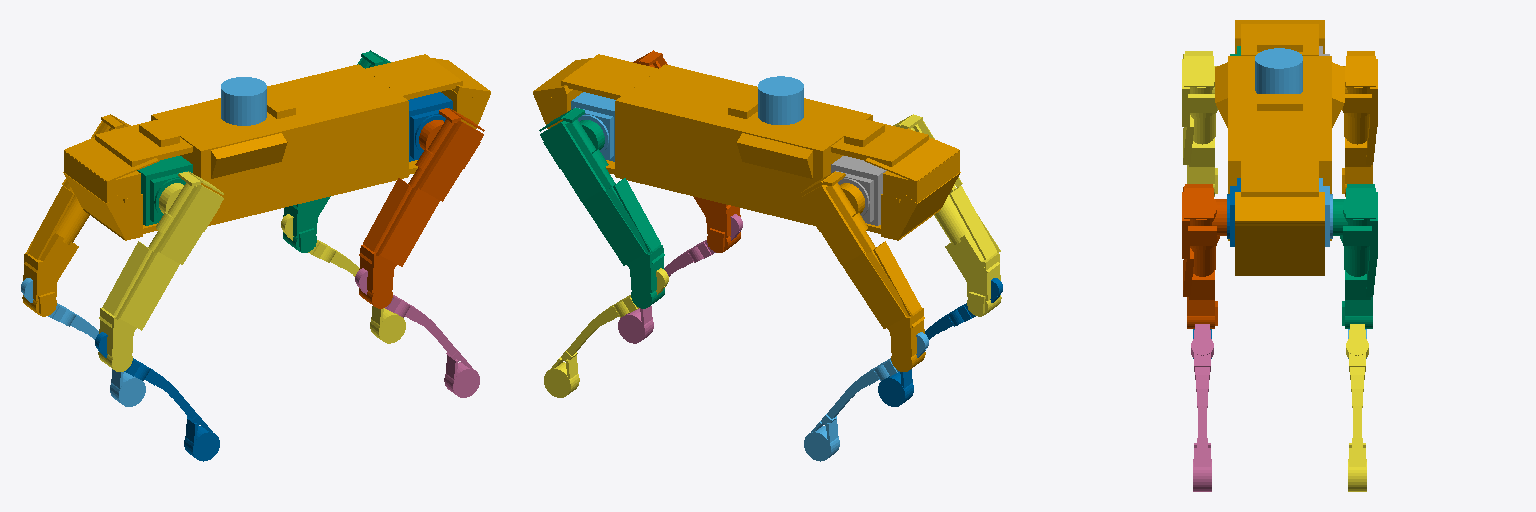
--- Facts derived from the render (not from the file) ---
3 views of the same robot in one strip: view 1: azimuth 30°, elevation 25°; view 2: azimuth 150°, elevation 25°; view 3: azimuth 270°, elevation 25° (orthographic).
Model Spot with 44 links and 43 joints (12 revolute, 4 continuous, 27 fixed), rooted at base_link, posed all joints at 0.
Links seen in each view (by area): view 1: base_link, rear right upperarm, front right upperarm, rear left upperarm, front right forearm, rear right forearm, Velodyne_Puck, front left forearm, rear left forearm, rear right shoulder, front left upperarm, front right shoulder; view 2: base_link, rear left upperarm, front left upperarm, rear right upperarm, front left forearm, rear left forearm, Velodyne_Puck, front right forearm, rear right forearm, rear left shoulder, front right upperarm, front left shoulder; view 3: base_link, front right upperarm, front left upperarm, rear right upperarm, rear left upperarm, front right forearm, front left forearm, Velodyne_Puck.
Link boxes in pixels (x1,y1,x2,y2): base_link: (63,54,490,240); rear right upperarm: (98,171,223,371); front right upperarm: (359,108,484,308); rear left upperarm: (22,114,130,316); front right forearm: (355,268,479,397); rear right forearm: (95,332,219,461); Velodyne_Puck: (221,77,266,125); front left forearm: (281,214,405,343); rear left forearm: (21,278,145,406); rear right shoulder: (137,156,192,225); front left upperarm: (283,50,390,252); front right shoulder: (408,92,452,161); base_link: (533,54,960,240); rear left upperarm: (800,171,925,371); front left upperarm: (539,108,664,308); rear right upperarm: (893,114,1001,316); front left forearm: (544,268,668,397); rear left forearm: (804,332,928,461); Velodyne_Puck: (758,76,803,124); front right forearm: (618,214,742,343); rear right forearm: (878,278,1002,406); rear left shoulder: (831,156,886,225); front right upperarm: (633,50,740,252); front left shoulder: (571,92,615,161); base_link: (1215,20,1344,275); front right upperarm: (1182,184,1226,328); front left upperarm: (1333,184,1377,328); rear right upperarm: (1182,51,1217,196); rear left upperarm: (1342,51,1377,196); front right forearm: (1191,324,1213,491); front left forearm: (1346,324,1368,491); Velodyne_Puck: (1255,48,1302,93).
Bounding box of the posed robot: 1.06 × 0.42 × 0.8025 m (x, y, z).
Geometry: primitives only (box / cylinder / sphere), no mesh files.

robot.urdf — Spot:
<?xml version="1.0"?>
<robot name="Spot" xmlns:xacro="http://ros.org/wiki/xacro">
  <link name="base_link">
    <visual>
      <origin xyz="0.462094 0 -0.000232" rpy="1.127615 -0.00001 -1.570793"/>
      <geometry>
        <box size="0.192453 0.177358 0.043396"/>
      </geometry>
    </visual>
    <collision>
      <origin xyz="0.462094 0 -0.000232" rpy="1.127615 -0.00001 -1.570793"/>
      <geometry>
        <box size="0.192453 0.177358 0.043396"/>
      </geometry>
    </collision>
    <visual>
      <origin xyz="0.477932 0 0.084013" rpy="1.217205 -0.000011 -1.570792"/>
      <geometry>
        <box size="0.192453 0.018113 0.08717"/>
      </geometry>
    </visual>
    <collision>
      <origin xyz="0.477932 0 0.084013" rpy="1.217205 -0.000011 -1.570792"/>
      <geometry>
        <box size="0.192453 0.018113 0.08717"/>
      </geometry>
    </collision>
    <visual>
      <origin xyz="0.451833 0 0.041304" rpy="0 0 0"/>
      <geometry>
        <box size="0.037736 0.192453 0.102642"/>
      </geometry>
    </visual>
    <collision>
      <origin xyz="0.451833 0 0.041304" rpy="0 0 0"/>
      <geometry>
        <box size="0.037736 0.192453 0.102642"/>
      </geometry>
    </collision>
    <visual>
      <origin xyz="0.031113 0 0.018833" rpy="0 0 0"/>
      <geometry>
        <box size="0.535849 0.222642 0.189434"/>
      </geometry>
    </visual>
    <collision>
      <origin xyz="0.031113 0 0.018833" rpy="0 0 0"/>
      <geometry>
        <box size="0.535849 0.222642 0.189434"/>
      </geometry>
    </collision>
    <visual>
      <origin xyz="0.376019 0 0.107135" rpy="0 0 0"/>
      <geometry>
        <box size="0.158491 0.166038 0.013208"/>
      </geometry>
    </visual>
    <collision>
      <origin xyz="0.376019 0 0.107135" rpy="0 0 0"/>
      <geometry>
        <box size="0.158491 0.166038 0.013208"/>
      </geometry>
    </collision>
    <visual>
      <origin xyz="0.363578 0 -0.079657" rpy="1.537614 -0.00001 -1.570793"/>
      <geometry>
        <box size="0.166038 0.013208 0.124528"/>
      </geometry>
    </visual>
    <collision>
      <origin xyz="0.363578 0 -0.079657" rpy="1.537614 -0.00001 -1.570793"/>
      <geometry>
        <box size="0.166038 0.013208 0.124528"/>
      </geometry>
    </collision>
    <visual>
      <origin xyz="-0.319453 0 0.107135" rpy="0 0 0"/>
      <geometry>
        <box size="0.158491 0.166038 0.013208"/>
      </geometry>
    </visual>
    <collision>
      <origin xyz="-0.319453 0 0.107135" rpy="0 0 0"/>
      <geometry>
        <box size="0.158491 0.166038 0.013208"/>
      </geometry>
    </collision>
    <visual>
      <origin xyz="-0.313025 0 -0.064563" rpy="0 0 0"/>
      <geometry>
        <box size="0.14717 0.166038 0.013208"/>
      </geometry>
    </visual>
    <collision>
      <origin xyz="-0.313025 0 -0.064563" rpy="0 0 0"/>
      <geometry>
        <box size="0.14717 0.166038 0.013208"/>
      </geometry>
    </collision>
    <visual>
      <origin xyz="-0.120195 0.111629 0.074886" rpy="1.5708 -0.423195 -1.570794"/>
      <geometry>
        <box size="0.030189 0.064528 0.182264"/>
      </geometry>
    </visual>
    <collision>
      <origin xyz="-0.120195 0.111629 0.074886" rpy="1.5708 -0.423195 -1.570794"/>
      <geometry>
        <box size="0.030189 0.064528 0.182264"/>
      </geometry>
    </collision>
    <visual>
      <origin xyz="-0.120195 -0.111629 0.074886" rpy="1.5708 0.423174 -1.570793"/>
      <geometry>
        <box size="0.030189 0.064528 0.182264"/>
      </geometry>
    </visual>
    <collision>
      <origin xyz="-0.120195 -0.111629 0.074886" rpy="1.5708 0.423174 -1.570793"/>
      <geometry>
        <box size="0.030189 0.064528 0.182264"/>
      </geometry>
    </collision>
    <visual>
      <origin xyz="-0.427377 0 0.059588" rpy="0 0 0"/>
      <geometry>
        <box size="0.089057 0.192453 0.05283"/>
      </geometry>
    </visual>
    <collision>
      <origin xyz="-0.427377 0 0.059588" rpy="0 0 0"/>
      <geometry>
        <box size="0.089057 0.192453 0.05283"/>
      </geometry>
    </collision>
    <visual>
      <origin xyz="-0.404 0 0.096611" rpy="1.730798 -0.000011 -1.570794"/>
      <geometry>
        <box size="0.193585 0.003774 0.135849"/>
      </geometry>
    </visual>
    <collision>
      <origin xyz="-0.404 0 0.096611" rpy="1.730798 -0.000011 -1.570794"/>
      <geometry>
        <box size="0.193585 0.003774 0.135849"/>
      </geometry>
    </collision>
    <visual>
      <origin xyz="-0.400585 0 -0.018903" rpy="0 0 0"/>
      <geometry>
        <box size="0.04566 0.191698 0.103396"/>
      </geometry>
    </visual>
    <collision>
      <origin xyz="-0.400585 0 -0.018903" rpy="0 0 0"/>
      <geometry>
        <box size="0.04566 0.191698 0.103396"/>
      </geometry>
    </collision>
    <visual>
      <origin xyz="-0.431528 0 -0.008337" rpy="2.0308 -0.00001 -1.570793"/>
      <geometry>
        <box size="0.193585 0.109434 0.037736"/>
      </geometry>
    </visual>
    <collision>
      <origin xyz="-0.431528 0 -0.008337" rpy="2.0308 -0.00001 -1.570793"/>
      <geometry>
        <box size="0.193585 0.109434 0.037736"/>
      </geometry>
    </collision>
    <visual>
      <origin xyz="-0.28 0 0.121" rpy="0 0 0"/>
      <geometry>
        <box size="0.05 0.1 0.02"/>
      </geometry>
    </visual>
    <collision>
      <origin xyz="-0.28 0 0.121" rpy="0 0 0"/>
      <geometry>
        <box size="0.05 0.1 0.02"/>
      </geometry>
    </collision>
    <visual>
      <origin xyz="0.02 0 0.121" rpy="0 0 0"/>
      <geometry>
        <box size="0.05 0.1 0.02"/>
      </geometry>
    </visual>
    <collision>
      <origin xyz="0.02 0 0.121" rpy="0 0 0"/>
      <geometry>
        <box size="0.05 0.1 0.02"/>
      </geometry>
    </collision>
  </link>
  <link name="Velodyne_Puck">
    <visual>
      <origin xyz="0 -0.00165 0" rpy="0 0 0"/>
      <geometry>
        <cylinder radius="0.052" length="0.0727"/>
      </geometry>
    </visual>
    <collision>
      <origin xyz="0 -0.00165 0" rpy="0 0 0"/>
      <geometry>
        <cylinder radius="0.052" length="0.0727"/>
      </geometry>
    </collision>
  </link>
  <joint name="base_link_Velodyne_Puck_joint" type="fixed">
    <parent link="base_link"/>
    <child link="Velodyne_Puck"/>
    <origin xyz="-0.063 0 0.1518" rpy="-0.000008 -0.000008 0.000001"/>
  </joint>
  <!-- <link name="solid">
  </link>
  <joint name="base_link_solid_joint" type="fixed">
    <parent link="base_link"/>
    <child link="solid"/>
    <origin xyz="0.496831 0.000001 0.104801" rpy="1.2208 -0.00001 -1.570793"/>
  </joint>
  <link name="kinect range">
  </link>
  <joint name="solid_kinect range_joint" type="fixed">
    <parent link="solid"/>
    <child link="kinect range"/>
    <origin xyz="0 0 -0.0127" rpy="-0.785397 1.570792 0.785397"/>
  </joint>
  <link name="kinect color">
  </link>
  <joint name="solid_kinect color_joint" type="fixed">
    <parent link="solid"/>
    <child link="kinect color"/>
    <origin xyz="0 0 -0.0127" rpy="-2.356193 1.570792 -0.7854"/>
  </joint> -->
  <joint name="rear right shoulder abduction motor" type="revolute">
    <parent link="base_link"/>
    <child link="rear right shoulder"/>
    <axis xyz="0 0 1"/>
    <limit effort="50" lower="-0.6" upper="0.5" velocity="10"/>
    <origin xyz="-0.3084 -0.0528 0.012301" rpy="1.5708 -0.00001 -1.570793"/>
  </joint>
  <link name="rear right shoulder">
    <visual>
      <origin xyz="-0.004874 0.000873 -0.000643" rpy="0 0 0"/>
      <geometry>
        <box size="0.086792 0.124528 0.120755"/>
      </geometry>
    </visual>
    <collision>
      <origin xyz="-0.004874 0.000873 -0.000643" rpy="0 0 0"/>
      <geometry>
        <box size="0.086792 0.124528 0.120755"/>
      </geometry>
    </collision>
    <visual>
      <origin xyz="0.006447 0.000873 -0.000643" rpy="0 0 0"/>
      <geometry>
        <box size="0.098113 0.098113 0.098113"/>
      </geometry>
    </visual>
    <collision>
      <origin xyz="0.006447 0.000873 -0.000643" rpy="0 0 0"/>
      <geometry>
        <box size="0.098113 0.098113 0.098113"/>
      </geometry>
    </collision>
    <visual>
      <origin xyz="0.058145 0.000873 -0.000643" rpy="-1.5708 0 1.5708"/>
      <geometry>
        <cylinder radius="0.047925" length="0.006038"/>
      </geometry>
    </visual>
    <collision>
      <origin xyz="0.058145 0.000873 -0.000643" rpy="-1.5708 0 1.5708"/>
      <geometry>
        <cylinder radius="0.047925" length="0.006038"/>
      </geometry>
    </collision>
  </link>
  <joint name="rear right shoulder rotation motor" type="revolute">
    <parent link="rear right shoulder"/>
    <child link="rear right upperarm"/>
    <axis xyz="1 0 0"/>
    <limit effort="50" lower="-1.7" upper="1.7" velocity="10"/>
    <origin xyz="0 -0.00053 0" rpy="0 0 0"/>
  </joint>
  <link name="rear right upperarm">
    <visual>
      <origin xyz="0.117011 -0.32073 0.1829" rpy="-1.5708 0 1.5708"/>
      <geometry>
        <cylinder radius="0.02717" length="0.060377"/>
      </geometry>
    </visual>
    <collision>
      <origin xyz="0.117011 -0.32073 0.1829" rpy="-1.5708 0 1.5708"/>
      <geometry>
        <cylinder radius="0.02717" length="0.060377"/>
      </geometry>
    </collision>
    <visual>
      <origin xyz="0.117011 -0.25867 0.180358" rpy="0 0.05 1.570795"/>
      <geometry>
        <box size="0.09434 0.060377 0.053208"/>
      </geometry>
    </visual>
    <collision>
      <origin xyz="0.117011 -0.25867 0.180358" rpy="0 0.05 1.570795"/>
      <geometry>
        <box size="0.09434 0.060377 0.053208"/>
      </geometry>
    </collision>
    <visual>
      <origin xyz="0.149087 -0.023654 0.007772" rpy="-0.656375 0 0"/>
      <geometry>
        <box size="0.016226 0.177358 0.071698"/>
      </geometry>
    </visual>
    <collision>
      <origin xyz="0.149087 -0.023654 0.007772" rpy="-0.656375 0 0"/>
      <geometry>
        <box size="0.016226 0.177358 0.071698"/>
      </geometry>
    </collision>
    <visual>
      <origin xyz="0.14944 -0.001095 0.048195" rpy="-0.688653 0.282831 -0.225783"/>
      <geometry>
        <box size="0.004528 0.173585 0.015094"/>
      </geometry>
    </visual>
    <collision>
      <origin xyz="0.14944 -0.001095 0.048195" rpy="-0.688653 0.282831 -0.225783"/>
      <geometry>
        <box size="0.004528 0.173585 0.015094"/>
      </geometry>
    </collision>
    <visual>
      <origin xyz="0.143963 -0.142325 0.149419" rpy="-0.689784 0.390399 -0.237371"/>
      <geometry>
        <box size="0.004528 0.173585 0.015094"/>
      </geometry>
    </visual>
    <collision>
      <origin xyz="0.143963 -0.142325 0.149419" rpy="-0.689784 0.390399 -0.237371"/>
      <geometry>
        <box size="0.004528 0.173585 0.015094"/>
      </geometry>
    </collision>
    <visual>
      <origin xyz="0.143376 -0.16295 0.113632" rpy="-0.64577 0.030504 0.039623"/>
      <geometry>
        <box size="0.016226 0.173585 0.071698"/>
      </geometry>
    </visual>
    <collision>
      <origin xyz="0.143376 -0.16295 0.113632" rpy="-0.64577 0.030504 0.039623"/>
      <geometry>
        <box size="0.016226 0.173585 0.071698"/>
      </geometry>
    </collision>
    <visual>
      <origin xyz="0.113992 -0.21476 0.154045" rpy="-0.656375 0 0"/>
      <geometry>
        <box size="0.054717 0.098113 0.064151"/>
      </geometry>
    </visual>
    <collision>
      <origin xyz="0.113992 -0.21476 0.154045" rpy="-0.656375 0 0"/>
      <geometry>
        <box size="0.054717 0.098113 0.064151"/>
      </geometry>
    </collision>
    <visual>
      <origin xyz="0.113238 -0.119427 0.086296" rpy="-2.227175 0 0"/>
      <geometry>
        <cylinder radius="0.028679" length="0.150943"/>
      </geometry>
    </visual>
    <collision>
      <origin xyz="0.113238 -0.119427 0.086296" rpy="-2.227175 0 0"/>
      <geometry>
        <cylinder radius="0.028679" length="0.150943"/>
      </geometry>
    </collision>
    <visual>
      <origin xyz="0.113238 -0.04459 0.028636" rpy="-2.227175 0 0"/>
      <geometry>
        <cylinder radius="0.037736" length="0.041509"/>
      </geometry>
    </visual>
    <collision>
      <origin xyz="0.113238 -0.04459 0.028636" rpy="-2.227175 0 0"/>
      <geometry>
        <cylinder radius="0.037736" length="0.041509"/>
      </geometry>
    </collision>
    <visual>
      <origin xyz="0.113738 -0.02284 -0.046726" rpy="-0.656375 0 0"/>
      <geometry>
        <box size="0.061509 0.069811 0.011321"/>
      </geometry>
    </visual>
    <collision>
      <origin xyz="0.113738 -0.02284 -0.046726" rpy="-0.656375 0 0"/>
      <geometry>
        <box size="0.061509 0.069811 0.011321"/>
      </geometry>
    </collision>
    <visual>
      <origin xyz="0.073615 -0.00019 -0.000689" rpy="-1.5708 0 1.5708"/>
      <geometry>
        <cylinder radius="0.04" length="0.037736"/>
      </geometry>
    </visual>
    <collision>
      <origin xyz="0.073615 -0.00019 -0.000689" rpy="-1.5708 0 1.5708"/>
      <geometry>
        <cylinder radius="0.04" length="0.037736"/>
      </geometry>
    </collision>
    <visual>
      <origin xyz="0.115879 0.008331 -0.011344" rpy="-2.227175 0 0"/>
      <geometry>
        <cylinder radius="0.033962" length="0.086792"/>
      </geometry>
    </visual>
    <collision>
      <origin xyz="0.115879 0.008331 -0.011344" rpy="-2.227175 0 0"/>
      <geometry>
        <cylinder radius="0.033962" length="0.086792"/>
      </geometry>
    </collision>
    <visual>
      <origin xyz="0.12154 0.053961 -0.047932" rpy="-0.656375 0 0"/>
      <geometry>
        <box size="0.064151 0.003774 0.071698"/>
      </geometry>
    </visual>
    <collision>
      <origin xyz="0.12154 0.053961 -0.047932" rpy="-0.656375 0 0"/>
      <geometry>
        <box size="0.064151 0.003774 0.071698"/>
      </geometry>
    </collision>
    <visual>
      <origin xyz="0.12003 0.073308 -0.006499" rpy="0.013625 0 0"/>
      <geometry>
        <box size="0.060377 0.007547 0.022642"/>
      </geometry>
    </visual>
    <collision>
      <origin xyz="0.12003 0.073308 -0.006499" rpy="0.013625 0 0"/>
      <geometry>
        <box size="0.060377 0.007547 0.022642"/>
      </geometry>
    </collision>
    <visual>
      <origin xyz="0.117011 -0.13635 0.154336" rpy="0.99 0 0"/>
      <geometry>
        <box size="0.049057 0.005283 0.169811"/>
      </geometry>
    </visual>
    <collision>
      <origin xyz="0.117011 -0.13635 0.154336" rpy="0.99 0 0"/>
      <geometry>
        <box size="0.049057 0.005283 0.169811"/>
      </geometry>
    </collision>
    <visual>
      <origin xyz="0.083111 -0.31378 0.182934" rpy="0 -0.076371 1.570798"/>
      <geometry>
        <box size="0.044 0.008 0.0387"/>
      </geometry>
    </visual>
    <collision>
      <origin xyz="0.083111 -0.31378 0.182934" rpy="0 -0.076371 1.570798"/>
      <geometry>
        <box size="0.044 0.008 0.0387"/>
      </geometry>
    </collision>
  </link>
  <joint name="rear right elbow motor" type="revolute">
    <parent link="rear right upperarm"/>
    <child link="rear right forearm"/>
    <axis xyz="1 0 0"/>
    <limit effort="50" lower="-0.45" upper="1.6" velocity="10"/>
    <origin xyz="0.1122 -0.319729 0.182338" rpy="0 0 0"/>
  </joint>
  <link name="rear right forearm">
    <visual>
      <origin xyz="0.001038 -0.271321 -0.225038" rpy="-1.5708 0 1.570801"/>
      <geometry>
        <cylinder radius="0.035094" length="0.039623"/>
      </geometry>
    </visual>
    <collision>
      <origin xyz="0.001038 -0.271321 -0.225038" rpy="-1.5708 0 1.570801"/>
      <geometry>
        <cylinder radius="0.035094" length="0.039623"/>
      </geometry>
    </collision>
    <visual>
      <origin xyz="0.001038 -0.227421 -0.230239" rpy="-0.947675 0 0"/>
      <geometry>
        <box size="0.037736 0.006038 0.041509"/>
      </geometry>
    </visual>
    <collision>
      <origin xyz="0.001038 -0.227421 -0.230239" rpy="-0.947675 0 0"/>
      <geometry>
        <box size="0.037736 0.006038 0.041509"/>
      </geometry>
    </collision>
    <visual>
      <origin xyz="0.001038 -0.232272 -0.198255" rpy="-0.093185 0 0"/>
      <geometry>
        <box size="0.037736 0.045283 0.006792"/>
      </geometry>
    </visual>
    <collision>
      <origin xyz="0.001038 -0.232272 -0.198255" rpy="-0.093185 0 0"/>
      <geometry>
        <box size="0.037736 0.045283 0.006792"/>
      </geometry>
    </collision>
    <visual>
      <origin xyz="0.001038 -0.205751 -0.206348" rpy="0.616815 0 0"/>
      <geometry>
        <box size="0.025283 0.022642 0.020755"/>
      </geometry>
    </visual>
    <collision>
      <origin xyz="0.001038 -0.205751 -0.206348" rpy="0.616815 0 0"/>
      <geometry>
        <box size="0.025283 0.022642 0.020755"/>
      </geometry>
    </collision>
    <visual>
      <origin xyz="0.001038 -0.168611 -0.18111" rpy="-2.513185 0 0"/>
      <geometry>
        <box size="0.019245 0.071698 0.017358"/>
      </geometry>
    </visual>
    <collision>
      <origin xyz="0.001038 -0.168611 -0.18111" rpy="-2.513185 0 0"/>
      <geometry>
        <box size="0.019245 0.071698 0.017358"/>
      </geometry>
    </collision>
    <visual>
      <origin xyz="0.001038 -0.125111 -0.148236" rpy="0.663625 0 0"/>
      <geometry>
        <box size="0.021887 0.037736 0.018491"/>
      </geometry>
    </visual>
    <collision>
      <origin xyz="0.001038 -0.125111 -0.148236" rpy="0.663625 0 0"/>
      <geometry>
        <box size="0.021887 0.037736 0.018491"/>
      </geometry>
    </collision>
    <visual>
      <origin xyz="0.001038 -0.100861 -0.126163" rpy="0.760415 0 0"/>
      <geometry>
        <box size="0.026415 0.030189 0.021132"/>
      </geometry>
    </visual>
    <collision>
      <origin xyz="0.001038 -0.100861 -0.126163" rpy="0.760415 0 0"/>
      <geometry>
        <box size="0.026415 0.030189 0.021132"/>
      </geometry>
    </collision>
    <visual>
      <origin xyz="0.001038 -0.084241 -0.106843" rpy="0.867225 0 0"/>
      <geometry>
        <box size="0.032453 0.022642 0.024528"/>
      </geometry>
    </visual>
    <collision>
      <origin xyz="0.001038 -0.084241 -0.106843" rpy="0.867225 0 0"/>
      <geometry>
        <box size="0.032453 0.022642 0.024528"/>
      </geometry>
    </collision>
    <visual>
      <origin xyz="0.001038 -0.068551 -0.08661" rpy="0.907225 0 0"/>
      <geometry>
        <box size="0.037736 0.033962 0.026415"/>
      </geometry>
    </visual>
    <collision>
      <origin xyz="0.001038 -0.068551 -0.08661" rpy="0.907225 0 0"/>
      <geometry>
        <box size="0.037736 0.033962 0.026415"/>
      </geometry>
    </collision>
    <visual>
      <origin xyz="0.001038 -0.049721 -0.059227" rpy="0.933245 0 0"/>
      <geometry>
        <cylinder radius="0.024528" length="0.030566"/>
      </geometry>
    </visual>
    <collision>
      <origin xyz="0.001038 -0.049721 -0.059227" rpy="0.933245 0 0"/>
      <geometry>
        <cylinder radius="0.024528" length="0.030566"/>
      </geometry>
    </collision>
    <visual>
      <origin xyz="0.001038 -0.034991 -0.038166" rpy="0.937225 0 0"/>
      <geometry>
        <box size="0.038113 0.022642 0.032075"/>
      </geometry>
    </visual>
    <collision>
      <origin xyz="0.001038 -0.034991 -0.038166" rpy="0.937225 0 0"/>
      <geometry>
        <box size="0.038113 0.022642 0.032075"/>
      </geometry>
    </collision>
    <visual>
      <origin xyz="0.001038 -0.022931 -0.021744" rpy="0.937225 0 0"/>
      <geometry>
        <box size="0.031321 0.018868 0.03283"/>
      </geometry>
    </visual>
    <collision>
      <origin xyz="0.001038 -0.022931 -0.021744" rpy="0.937225 0 0"/>
      <geometry>
        <box size="0.031321 0.018868 0.03283"/>
      </geometry>
    </collision>
    <visual>
      <origin xyz="0.001038 -0.010711 -0.006332" rpy="0.834035 0 0"/>
      <geometry>
        <box size="0.027925 0.018868 0.03283"/>
      </geometry>
    </visual>
    <collision>
      <origin xyz="0.001038 -0.010711 -0.006332" rpy="0.834035 0 0"/>
      <geometry>
        <box size="0.027925 0.018868 0.03283"/>
      </geometry>
    </collision>
    <visual>
      <origin xyz="0.001038 0.004299 0.006862" rpy="0.680845 0 0"/>
      <geometry>
        <box size="0.027547 0.018868 0.034717"/>
      </geometry>
    </visual>
    <collision>
      <origin xyz="0.001038 0.004299 0.006862" rpy="0.680845 0 0"/>
      <geometry>
        <box size="0.027547 0.018868 0.034717"/>
      </geometry>
    </collision>
    <visual>
      <origin xyz="0.001038 0.021259 0.019851" rpy="0.604465 0 0"/>
      <geometry>
        <box size="0.020377 0.026415 0.03434"/>
      </geometry>
    </visual>
    <collision>
      <origin xyz="0.001038 0.021259 0.019851" rpy="0.604465 0 0"/>
      <geometry>
        <box size="0.020377 0.026415 0.03434"/>
      </geometry>
    </collision>
    <visual>
      <origin xyz="0.001038 0.019179 -0.009531" rpy="0.494895 0 0"/>
      <geometry>
        <box size="0.010189 0.05283 0.00717"/>
      </geometry>
    </visual>
    <collision>
      <origin xyz="0.001038 0.019179 -0.009531" rpy="0.494895 0 0"/>
      <geometry>
        <box size="0.010189 0.05283 0.00717"/>
      </geometry>
    </collision>
    <visual>
      <origin xyz="0.001038 0.037459 0.024742" rpy="-1.5708 0 1.5708"/>
      <geometry>
        <cylinder radius="0.021887" length="0.019736"/>
      </geometry>
    </visual>
    <collision>
      <origin xyz="0.001038 0.037459 0.024742" rpy="-1.5708 0 1.5708"/>
      <geometry>
        <cylinder radius="0.021887" length="0.019736"/>
      </geometry>
    </collision>
  </link>
  <link name="rear right touch sensor">
  </link>
  <joint name="rear right forearm_rear right touch sensor_joint" type="fixed">
    <parent link="rear right forearm"/>
    <child link="rear right touch sensor"/>
    <origin xyz="0.001038 -0.271321 -0.225038" rpy="-1.5708 0 1.570801"/>
  </joint>
  <joint name="rear right piston motor" type="continuous">
    <parent link="rear right upperarm"/>
    <child link="solid_0"/>
    <axis xyz="1 0 0"/>
    <limit effort="10" velocity="10"/>
    <origin xyz="0.1172 -0.29077 0.2083" rpy="-0.5236 0 0"/>
  </joint>
  <link name="solid_0">
  </link>
  <joint name="rear left shoulder abduction motor" type="revolute">
    <parent link="base_link"/>
    <child link="rear left shoulder"/>
    <axis xyz="0 0 1"/>
    <limit effort="50" lower="-0.6" upper="0.5" velocity="10"/>
    <origin xyz="-0.3084 0.0528 0.012299" rpy="1.5708 -0.00001 -1.570793"/>
  </joint>
  <link name="rear left shoulder">
    <visual>
      <origin xyz="0.004874 0.000873 -0.000643" rpy="0 0 0"/>
      <geometry>
        <box size="0.086792 0.124528 0.120755"/>
      </geometry>
    </visual>
    <collision>
      <origin xyz="0.004874 0.000873 -0.000643" rpy="0 0 0"/>
      <geometry>
        <box size="0.086792 0.124528 0.120755"/>
      </geometry>
    </collision>
    <visual>
      <origin xyz="-0.006447 0.000873 -0.000643" rpy="0 0 0"/>
      <geometry>
        <box size="0.098113 0.098113 0.098113"/>
      </geometry>
    </visual>
    <collision>
      <origin xyz="-0.006447 0.000873 -0.000643" rpy="0 0 0"/>
      <geometry>
        <box size="0.098113 0.098113 0.098113"/>
      </geometry>
    </collision>
    <visual>
      <origin xyz="-0.058145 0.000873 -0.000643" rpy="-1.5708 0 1.5708"/>
      <geometry>
        <cylinder radius="0.047925" length="0.006038"/>
      </geometry>
    </visual>
    <collision>
      <origin xyz="-0.058145 0.000873 -0.000643" rpy="-1.5708 0 1.5708"/>
      <geometry>
        <cylinder radius="0.047925" length="0.006038"/>
      </geometry>
    </collision>
  </link>
  <joint name="rear left shoulder rotation motor" type="revolute">
    <parent link="rear left shoulder"/>
    <child link="rear left upperarm"/>
    <axis xyz="1 0 0"/>
    <limit effort="50" lower="-1.7" upper="1.7" velocity="10"/>
    <origin xyz="0 -0.00053 0" rpy="0 0 0"/>
  </joint>
  <link name="rear left upperarm">
    <visual>
      <origin xyz="-0.117011 -0.32073 0.1829" rpy="-1.5708 0 1.5708"/>
      <geometry>
        <cylinder radius="0.02717" length="0.060377"/>
      </geometry>
    </visual>
    <collision>
      <origin xyz="-0.117011 -0.32073 0.1829" rpy="-1.5708 0 1.5708"/>
      <geometry>
        <cylinder radius="0.02717" length="0.060377"/>
      </geometry>
    </collision>
    <visual>
      <origin xyz="-0.117011 -0.25867 0.180358" rpy="0 0.05 1.570795"/>
      <geometry>
        <box size="0.09434 0.060377 0.053208"/>
      </geometry>
    </visual>
    <collision>
      <origin xyz="-0.117011 -0.25867 0.180358" rpy="0 0.05 1.570795"/>
      <geometry>
        <box size="0.09434 0.060377 0.053208"/>
      </geometry>
    </collision>
    <visual>
      <origin xyz="-0.149087 -0.023654 0.007772" rpy="-0.656375 0 0"/>
      <geometry>
        <box size="0.016226 0.177358 0.071698"/>
      </geometry>
    </visual>
    <collision>
      <origin xyz="-0.149087 -0.023654 0.007772" rpy="-0.656375 0 0"/>
      <geometry>
        <box size="0.016226 0.177358 0.071698"/>
      </geometry>
    </collision>
    <visual>
      <origin xyz="-0.14944 -0.001095 0.048195" rpy="-0.688653 0.282831 -0.225783"/>
      <geometry>
        <box size="0.004528 0.173585 0.015094"/>
      </geometry>
    </visual>
    <collision>
      <origin xyz="-0.14944 -0.001095 0.048195" rpy="-0.688653 0.282831 -0.225783"/>
      <geometry>
        <box size="0.004528 0.173585 0.015094"/>
      </geometry>
    </collision>
    <visual>
      <origin xyz="-0.143963 -0.142325 0.149419" rpy="-0.689784 0.390399 -0.237371"/>
      <geometry>
        <box size="0.004528 0.173585 0.015094"/>
      </geometry>
    </visual>
    <collision>
      <origin xyz="-0.143963 -0.142325 0.149419" rpy="-0.689784 0.390399 -0.237371"/>
      <geometry>
        <box size="0.004528 0.173585 0.015094"/>
      </geometry>
    </collision>
    <visual>
      <origin xyz="-0.143376 -0.16295 0.113632" rpy="-0.64577 0.030504 0.039623"/>
      <geometry>
        <box size="0.016226 0.173585 0.071698"/>
      </geometry>
    </visual>
    <collision>
      <origin xyz="-0.143376 -0.16295 0.113632" rpy="-0.64577 0.030504 0.039623"/>
      <geometry>
        <box size="0.016226 0.173585 0.071698"/>
      </geometry>
    </collision>
    <visual>
      <origin xyz="-0.113992 -0.21476 0.154045" rpy="-0.656375 0 0"/>
      <geometry>
        <box size="0.054717 0.098113 0.064151"/>
      </geometry>
    </visual>
    <collision>
      <origin xyz="-0.113992 -0.21476 0.154045" rpy="-0.656375 0 0"/>
      <geometry>
        <box size="0.054717 0.098113 0.064151"/>
      </geometry>
    </collision>
    <visual>
      <origin xyz="-0.113238 -0.119427 0.086296" rpy="-2.227175 0 0"/>
      <geometry>
        <cylinder radius="0.028679" length="0.150943"/>
      </geometry>
    </visual>
    <collision>
      <origin xyz="-0.113238 -0.119427 0.086296" rpy="-2.227175 0 0"/>
      <geometry>
        <cylinder radius="0.028679" length="0.150943"/>
      </geometry>
    </collision>
    <visual>
      <origin xyz="-0.113238 -0.04459 0.028636" rpy="-2.227175 0 0"/>
      <geometry>
        <cylinder radius="0.037736" length="0.041509"/>
      </geometry>
    </visual>
    <collision>
      <origin xyz="-0.113238 -0.04459 0.028636" rpy="-2.227175 0 0"/>
      <geometry>
        <cylinder radius="0.037736" length="0.041509"/>
      </geometry>
    </collision>
    <visual>
      <origin xyz="-0.113738 -0.02284 -0.046726" rpy="-0.656375 0 0"/>
      <geometry>
        <box size="0.061509 0.069811 0.011321"/>
      </geometry>
    </visual>
    <collision>
      <origin xyz="-0.113738 -0.02284 -0.046726" rpy="-0.656375 0 0"/>
      <geometry>
        <box size="0.061509 0.069811 0.011321"/>
      </geometry>
    </collision>
    <visual>
      <origin xyz="-0.073615 -0.00019 -0.000689" rpy="-1.5708 0 1.5708"/>
      <geometry>
        <cylinder radius="0.04" length="0.037736"/>
      </geometry>
    </visual>
    <collision>
      <origin xyz="-0.073615 -0.00019 -0.000689" rpy="-1.5708 0 1.5708"/>
      <geometry>
        <cylinder radius="0.04" length="0.037736"/>
      </geometry>
    </collision>
    <visual>
      <origin xyz="-0.115879 0.008331 -0.011344" rpy="-2.227175 0 0"/>
      <geometry>
        <cylinder radius="0.033962" length="0.086792"/>
      </geometry>
    </visual>
    <collision>
      <origin xyz="-0.115879 0.008331 -0.011344" rpy="-2.227175 0 0"/>
      <geometry>
        <cylinder radius="0.033962" length="0.086792"/>
      </geometry>
    </collision>
    <visual>
      <origin xyz="-0.12154 0.053961 -0.047932" rpy="-0.656375 0 0"/>
      <geometry>
        <box size="0.064151 0.003774 0.071698"/>
      </geometry>
    </visual>
    <collision>
      <origin xyz="-0.12154 0.053961 -0.047932" rpy="-0.656375 0 0"/>
      <geometry>
        <box size="0.064151 0.003774 0.071698"/>
      </geometry>
    </collision>
    <visual>
      <origin xyz="-0.12003 0.073308 -0.006499" rpy="0.013625 0 0"/>
      <geometry>
        <box size="0.060377 0.007547 0.022642"/>
      </geometry>
    </visual>
    <collision>
      <origin xyz="-0.12003 0.073308 -0.006499" rpy="0.013625 0 0"/>
      <geometry>
        <box size="0.060377 0.007547 0.022642"/>
      </geometry>
    </collision>
    <visual>
      <origin xyz="-0.117011 -0.13635 0.154336" rpy="0.99 0 0"/>
      <geometry>
        <box size="0.049057 0.005283 0.169811"/>
      </geometry>
    </visual>
    <collision>
      <origin xyz="-0.117011 -0.13635 0.154336" rpy="0.99 0 0"/>
      <geometry>
        <box size="0.049057 0.005283 0.169811"/>
      </geometry>
    </collision>
    <visual>
      <origin xyz="-0.083111 -0.31378 0.182934" rpy="0 -0.076371 1.570798"/>
      <geometry>
        <box size="0.044 0.008 0.0387"/>
      </geometry>
    </visual>
    <collision>
      <origin xyz="-0.083111 -0.31378 0.182934" rpy="0 -0.076371 1.570798"/>
      <geometry>
        <box size="0.044 0.008 0.0387"/>
      </geometry>
    </collision>
  </link>
  <joint name="rear left elbow motor" type="revolute">
    <parent link="rear left upperarm"/>
    <child link="rear left forearm"/>
    <axis xyz="1 0 0"/>
    <limit effort="50" lower="-0.45" upper="1.6" velocity="10"/>
    <origin xyz="-0.1122 -0.319729 0.182338" rpy="0 0 0"/>
  </joint>
  <link name="rear left forearm">
    <visual>
      <origin xyz="-0.001038 -0.271321 -0.225038" rpy="-1.5708 0 1.570801"/>
      <geometry>
        <cylinder radius="0.035094" length="0.039623"/>
      </geometry>
    </visual>
    <collision>
      <origin xyz="-0.001038 -0.271321 -0.225038" rpy="-1.5708 0 1.570801"/>
      <geometry>
        <cylinder radius="0.035094" length="0.039623"/>
      </geometry>
    </collision>
    <visual>
      <origin xyz="-0.001038 -0.227421 -0.230239" rpy="-0.947675 0 0"/>
      <geometry>
        <box size="0.037736 0.006038 0.041509"/>
      </geometry>
    </visual>
    <collision>
      <origin xyz="-0.001038 -0.227421 -0.230239" rpy="-0.947675 0 0"/>
      <geometry>
        <box size="0.037736 0.006038 0.041509"/>
      </geometry>
    </collision>
    <visual>
      <origin xyz="-0.001038 -0.232272 -0.198255" rpy="-0.093185 0 0"/>
      <geometry>
        <box size="0.037736 0.045283 0.006792"/>
      </geometry>
    </visual>
    <collision>
      <origin xyz="-0.001038 -0.232272 -0.198255" rpy="-0.093185 0 0"/>
      <geometry>
        <box size="0.037736 0.045283 0.006792"/>
      </geometry>
    </collision>
    <visual>
      <origin xyz="-0.001038 -0.205751 -0.206348" rpy="0.616815 0 0"/>
      <geometry>
        <box size="0.025283 0.022642 0.020755"/>
      </geometry>
    </visual>
    <collision>
      <origin xyz="-0.001038 -0.205751 -0.206348" rpy="0.616815 0 0"/>
      <geometry>
        <box size="0.025283 0.022642 0.020755"/>
      </geometry>
    </collision>
    <visual>
      <origin xyz="-0.001038 -0.168611 -0.18111" rpy="-2.513185 0 0"/>
      <geometry>
        <box size="0.019245 0.071698 0.017358"/>
      </geometry>
    </visual>
    <collision>
      <origin xyz="-0.001038 -0.168611 -0.18111" rpy="-2.513185 0 0"/>
      <geometry>
        <box size="0.019245 0.071698 0.017358"/>
      </geometry>
    </collision>
    <visual>
      <origin xyz="-0.001038 -0.125111 -0.148236" rpy="0.663625 0 0"/>
      <geometry>
        <box size="0.021887 0.037736 0.018491"/>
      </geometry>
    </visual>
    <collision>
      <origin xyz="-0.001038 -0.125111 -0.148236" rpy="0.663625 0 0"/>
      <geometry>
        <box size="0.021887 0.037736 0.018491"/>
      </geometry>
    </collision>
    <visual>
      <origin xyz="-0.001038 -0.100861 -0.126163" rpy="0.760415 0 0"/>
      <geometry>
        <box size="0.026415 0.030189 0.021132"/>
      </geometry>
    </visual>
    <collision>
      <origin xyz="-0.001038 -0.100861 -0.126163" rpy="0.760415 0 0"/>
      <geometry>
        <box size="0.026415 0.030189 0.021132"/>
      </geometry>
    </collision>
    <visual>
      <origin xyz="-0.001038 -0.084241 -0.106843" rpy="0.867225 0 0"/>
      <geometry>
        <box size="0.032453 0.022642 0.024528"/>
      </geometry>
    </visual>
    <collision>
      <origin xyz="-0.001038 -0.084241 -0.106843" rpy="0.867225 0 0"/>
      <geometry>
        <box size="0.032453 0.022642 0.024528"/>
      </geometry>
    </collision>
    <visual>
      <origin xyz="-0.001038 -0.068551 -0.08661" rpy="0.907225 0 0"/>
      <geometry>
        <box size="0.037736 0.033962 0.026415"/>
      </geometry>
    </visual>
    <collision>
      <origin xyz="-0.001038 -0.068551 -0.08661" rpy="0.907225 0 0"/>
      <geometry>
        <box size="0.037736 0.033962 0.026415"/>
      </geometry>
    </collision>
    <visual>
      <origin xyz="-0.001038 -0.049721 -0.059227" rpy="0.933245 0 0"/>
      <geometry>
        <cylinder radius="0.024528" length="0.030566"/>
      </geometry>
    </visual>
    <collision>
      <origin xyz="-0.001038 -0.049721 -0.059227" rpy="0.933245 0 0"/>
      <geometry>
        <cylinder radius="0.024528" length="0.030566"/>
      </geometry>
    </collision>
    <visual>
      <origin xyz="-0.001038 -0.034991 -0.038166" rpy="0.937225 0 0"/>
      <geometry>
        <box size="0.038113 0.022642 0.032075"/>
      </geometry>
    </visual>
    <collision>
      <origin xyz="-0.001038 -0.034991 -0.038166" rpy="0.937225 0 0"/>
      <geometry>
        <box size="0.038113 0.022642 0.032075"/>
      </geometry>
    </collision>
    <visual>
      <origin xyz="-0.001038 -0.022931 -0.021744" rpy="0.937225 0 0"/>
      <geometry>
        <box size="0.031321 0.018868 0.03283"/>
      </geometry>
    </visual>
    <collision>
      <origin xyz="-0.001038 -0.022931 -0.021744" rpy="0.937225 0 0"/>
      <geometry>
        <box size="0.031321 0.018868 0.03283"/>
      </geometry>
    </collision>
    <visual>
      <origin xyz="-0.001038 -0.010711 -0.006332" rpy="0.834035 0 0"/>
      <geometry>
        <box size="0.027925 0.018868 0.03283"/>
      </geometry>
    </visual>
    <collision>
      <origin xyz="-0.001038 -0.010711 -0.006332" rpy="0.834035 0 0"/>
      <geometry>
        <box size="0.027925 0.018868 0.03283"/>
      </geometry>
    </collision>
    <visual>
      <origin xyz="-0.001038 0.004299 0.006862" rpy="0.680845 0 0"/>
      <geometry>
        <box size="0.027547 0.018868 0.034717"/>
      </geometry>
    </visual>
    <collision>
      <origin xyz="-0.001038 0.004299 0.006862" rpy="0.680845 0 0"/>
      <geometry>
        <box size="0.027547 0.018868 0.034717"/>
      </geometry>
    </collision>
    <visual>
      <origin xyz="-0.001038 0.021259 0.019851" rpy="0.604465 0 0"/>
      <geometry>
        <box size="0.020377 0.026415 0.03434"/>
      </geometry>
    </visual>
    <collision>
      <origin xyz="-0.001038 0.021259 0.019851" rpy="0.604465 0 0"/>
      <geometry>
        <box size="0.020377 0.026415 0.03434"/>
      </geometry>
    </collision>
    <visual>
      <origin xyz="-0.001038 0.019179 -0.009531" rpy="0.494895 0 0"/>
      <geometry>
        <box size="0.010189 0.05283 0.00717"/>
      </geometry>
    </visual>
    <collision>
      <origin xyz="-0.001038 0.019179 -0.009531" rpy="0.494895 0 0"/>
      <geometry>
        <box size="0.010189 0.05283 0.00717"/>
      </geometry>
    </collision>
    <visual>
      <origin xyz="-0.001038 0.037459 0.024742" rpy="-1.5708 0 1.5708"/>
      <geometry>
        <cylinder radius="0.021887" length="0.019736"/>
      </geometry>
    </visual>
    <collision>
      <origin xyz="-0.001038 0.037459 0.024742" rpy="-1.5708 0 1.5708"/>
      <geometry>
        <cylinder radius="0.021887" length="0.019736"/>
      </geometry>
    </collision>
  </link>
  <link name="rear left touch sensor">
  </link>
  <joint name="rear left forearm_rear left touch sensor_joint" type="fixed">
    <parent link="rear left forearm"/>
    <child link="rear left touch sensor"/>
    <origin xyz="0.001038 -0.271321 -0.225038" rpy="-1.5708 0 1.570801"/>
  </joint>
  <joint name="rear left piston motor" type="continuous">
    <parent link="rear left upperarm"/>
    <child link="solid_1"/>
    <axis xyz="1 0 0"/>
    <limit effort="10" velocity="10"/>
    <origin xyz="-0.1172 -0.29077 0.2083" rpy="-0.5236 0 0"/>
  </joint>
  <link name="solid_1">
  </link>
  <joint name="front right shoulder abduction motor" type="revolute">
    <parent link="base_link"/>
    <child link="front right shoulder"/>
    <axis xyz="0 0 1"/>
    <limit effort="50" lower="-0.6" upper="0.5" velocity="10"/>
    <origin xyz="0.3635 -0.0528 0.012401" rpy="1.5708 -0.00001 -1.570793"/>
  </joint>
  <link name="front right shoulder">
    <visual>
      <origin xyz="-0.004874 0.000873 -0.000643" rpy="0 0 0"/>
      <geometry>
        <box size="0.086792 0.124528 0.120755"/>
      </geometry>
    </visual>
    <collision>
      <origin xyz="-0.004874 0.000873 -0.000643" rpy="0 0 0"/>
      <geometry>
        <box size="0.086792 0.124528 0.120755"/>
      </geometry>
    </collision>
    <visual>
      <origin xyz="0.006447 0.000873 -0.000643" rpy="0 0 0"/>
      <geometry>
        <box size="0.098113 0.098113 0.098113"/>
      </geometry>
    </visual>
    <collision>
      <origin xyz="0.006447 0.000873 -0.000643" rpy="0 0 0"/>
      <geometry>
        <box size="0.098113 0.098113 0.098113"/>
      </geometry>
    </collision>
    <visual>
      <origin xyz="0.058145 0.000873 -0.000643" rpy="-1.5708 0 1.5708"/>
      <geometry>
        <cylinder radius="0.047925" length="0.006038"/>
      </geometry>
    </visual>
    <collision>
      <origin xyz="0.058145 0.000873 -0.000643" rpy="-1.5708 0 1.5708"/>
      <geometry>
        <cylinder radius="0.047925" length="0.006038"/>
      </geometry>
    </collision>
  </link>
  <joint name="front right shoulder rotation motor" type="revolute">
    <parent link="front right shoulder"/>
    <child link="front right upperarm"/>
    <axis xyz="1 0 0"/>
    <limit effort="50" lower="-1.7" upper="1.7" velocity="10"/>
    <origin xyz="0 -0.00053 0" rpy="0 0 0"/>
  </joint>
  <link name="front right upperarm">
    <visual>
      <origin xyz="0.117011 -0.32073 0.1829" rpy="-1.5708 0 1.5708"/>
      <geometry>
        <cylinder radius="0.02717" length="0.060377"/>
      </geometry>
    </visual>
    <collision>
      <origin xyz="0.117011 -0.32073 0.1829" rpy="-1.5708 0 1.5708"/>
      <geometry>
        <cylinder radius="0.02717" length="0.060377"/>
      </geometry>
    </collision>
    <visual>
      <origin xyz="0.117011 -0.25867 0.180358" rpy="0 0.05 1.570795"/>
      <geometry>
        <box size="0.09434 0.060377 0.053208"/>
      </geometry>
    </visual>
    <collision>
      <origin xyz="0.117011 -0.25867 0.180358" rpy="0 0.05 1.570795"/>
      <geometry>
        <box size="0.09434 0.060377 0.053208"/>
      </geometry>
    </collision>
    <visual>
      <origin xyz="0.149087 -0.023654 0.007772" rpy="-0.656375 0 0"/>
      <geometry>
        <box size="0.016226 0.177358 0.071698"/>
      </geometry>
    </visual>
    <collision>
      <origin xyz="0.149087 -0.023654 0.007772" rpy="-0.656375 0 0"/>
      <geometry>
        <box size="0.016226 0.177358 0.071698"/>
      </geometry>
    </collision>
    <visual>
      <origin xyz="0.14944 -0.001095 0.048195" rpy="-0.688653 0.282831 -0.225783"/>
      <geometry>
        <box size="0.004528 0.173585 0.015094"/>
      </geometry>
    </visual>
    <collision>
      <origin xyz="0.14944 -0.001095 0.048195" rpy="-0.688653 0.282831 -0.225783"/>
      <geometry>
        <box size="0.004528 0.173585 0.015094"/>
      </geometry>
    </collision>
    <visual>
      <origin xyz="0.143963 -0.142325 0.149419" rpy="-0.689784 0.390399 -0.237371"/>
      <geometry>
        <box size="0.004528 0.173585 0.015094"/>
      </geometry>
    </visual>
    <collision>
      <origin xyz="0.143963 -0.142325 0.149419" rpy="-0.689784 0.390399 -0.237371"/>
      <geometry>
        <box size="0.004528 0.173585 0.015094"/>
      </geometry>
    </collision>
    <visual>
      <origin xyz="0.143376 -0.16295 0.113632" rpy="-0.64577 0.030504 0.039623"/>
      <geometry>
        <box size="0.016226 0.173585 0.071698"/>
      </geometry>
    </visual>
    <collision>
      <origin xyz="0.143376 -0.16295 0.113632" rpy="-0.64577 0.030504 0.039623"/>
      <geometry>
        <box size="0.016226 0.173585 0.071698"/>
      </geometry>
    </collision>
    <visual>
      <origin xyz="0.113992 -0.21476 0.154045" rpy="-0.656375 0 0"/>
      <geometry>
        <box size="0.054717 0.098113 0.064151"/>
      </geometry>
    </visual>
    <collision>
      <origin xyz="0.113992 -0.21476 0.154045" rpy="-0.656375 0 0"/>
      <geometry>
        <box size="0.054717 0.098113 0.064151"/>
      </geometry>
    </collision>
    <visual>
      <origin xyz="0.113238 -0.119427 0.086296" rpy="-2.227175 0 0"/>
      <geometry>
        <cylinder radius="0.028679" length="0.150943"/>
      </geometry>
    </visual>
    <collision>
      <origin xyz="0.113238 -0.119427 0.086296" rpy="-2.227175 0 0"/>
      <geometry>
        <cylinder radius="0.028679" length="0.150943"/>
      </geometry>
    </collision>
    <visual>
      <origin xyz="0.113238 -0.04459 0.028636" rpy="-2.227175 0 0"/>
      <geometry>
        <cylinder radius="0.037736" length="0.041509"/>
      </geometry>
    </visual>
    <collision>
      <origin xyz="0.113238 -0.04459 0.028636" rpy="-2.227175 0 0"/>
      <geometry>
        <cylinder radius="0.037736" length="0.041509"/>
      </geometry>
    </collision>
    <visual>
      <origin xyz="0.113738 -0.02284 -0.046726" rpy="-0.656375 0 0"/>
      <geometry>
        <box size="0.061509 0.069811 0.011321"/>
      </geometry>
    </visual>
    <collision>
      <origin xyz="0.113738 -0.02284 -0.046726" rpy="-0.656375 0 0"/>
      <geometry>
        <box size="0.061509 0.069811 0.011321"/>
      </geometry>
    </collision>
    <visual>
      <origin xyz="0.073615 -0.00019 -0.000689" rpy="-1.5708 0 1.5708"/>
      <geometry>
        <cylinder radius="0.04" length="0.037736"/>
      </geometry>
    </visual>
    <collision>
      <origin xyz="0.073615 -0.00019 -0.000689" rpy="-1.5708 0 1.5708"/>
      <geometry>
        <cylinder radius="0.04" length="0.037736"/>
      </geometry>
    </collision>
    <visual>
      <origin xyz="0.115879 0.008331 -0.011344" rpy="-2.227175 0 0"/>
      <geometry>
        <cylinder radius="0.033962" length="0.086792"/>
      </geometry>
    </visual>
    <collision>
      <origin xyz="0.115879 0.008331 -0.011344" rpy="-2.227175 0 0"/>
      <geometry>
        <cylinder radius="0.033962" length="0.086792"/>
      </geometry>
    </collision>
    <visual>
      <origin xyz="0.12154 0.053961 -0.047932" rpy="-0.656375 0 0"/>
      <geometry>
        <box size="0.064151 0.003774 0.071698"/>
      </geometry>
    </visual>
    <collision>
      <origin xyz="0.12154 0.053961 -0.047932" rpy="-0.656375 0 0"/>
      <geometry>
        <box size="0.064151 0.003774 0.071698"/>
      </geometry>
    </collision>
    <visual>
      <origin xyz="0.12003 0.073308 -0.006499" rpy="0.013625 0 0"/>
      <geometry>
        <box size="0.060377 0.007547 0.022642"/>
      </geometry>
    </visual>
    <collision>
      <origin xyz="0.12003 0.073308 -0.006499" rpy="0.013625 0 0"/>
      <geometry>
        <box size="0.060377 0.007547 0.022642"/>
      </geometry>
    </collision>
    <visual>
      <origin xyz="0.117011 -0.13635 0.154336" rpy="0.99 0 0"/>
      <geometry>
        <box size="0.049057 0.005283 0.169811"/>
      </geometry>
    </visual>
    <collision>
      <origin xyz="0.117011 -0.13635 0.154336" rpy="0.99 0 0"/>
      <geometry>
        <box size="0.049057 0.005283 0.169811"/>
      </geometry>
    </collision>
    <visual>
      <origin xyz="0.083111 -0.31378 0.182934" rpy="0 -0.076371 1.570798"/>
      <geometry>
        <box size="0.044 0.008 0.0387"/>
      </geometry>
    </visual>
    <collision>
      <origin xyz="0.083111 -0.31378 0.182934" rpy="0 -0.076371 1.570798"/>
      <geometry>
        <box size="0.044 0.008 0.0387"/>
      </geometry>
    </collision>
  </link>
  <joint name="front right elbow motor" type="revolute">
    <parent link="front right upperarm"/>
    <child link="front right forearm"/>
    <axis xyz="1 0 0"/>
    <limit effort="50" lower="-0.45" upper="1.6" velocity="10"/>
    <origin xyz="0.1122 -0.319729 0.182338" rpy="0 0 0"/>
  </joint>
  <link name="front right forearm">
    <visual>
      <origin xyz="0.001038 -0.271321 -0.225038" rpy="-1.5708 0 1.570801"/>
      <geometry>
        <cylinder radius="0.035094" length="0.039623"/>
      </geometry>
    </visual>
    <collision>
      <origin xyz="0.001038 -0.271321 -0.225038" rpy="-1.5708 0 1.570801"/>
      <geometry>
        <cylinder radius="0.035094" length="0.039623"/>
      </geometry>
    </collision>
    <visual>
      <origin xyz="0.001038 -0.227421 -0.230239" rpy="-0.947675 0 0"/>
      <geometry>
        <box size="0.037736 0.006038 0.041509"/>
      </geometry>
    </visual>
    <collision>
      <origin xyz="0.001038 -0.227421 -0.230239" rpy="-0.947675 0 0"/>
      <geometry>
        <box size="0.037736 0.006038 0.041509"/>
      </geometry>
    </collision>
    <visual>
      <origin xyz="0.001038 -0.232272 -0.198255" rpy="-0.093185 0 0"/>
      <geometry>
        <box size="0.037736 0.045283 0.006792"/>
      </geometry>
    </visual>
    <collision>
      <origin xyz="0.001038 -0.232272 -0.198255" rpy="-0.093185 0 0"/>
      <geometry>
        <box size="0.037736 0.045283 0.006792"/>
      </geometry>
    </collision>
    <visual>
      <origin xyz="0.001038 -0.205751 -0.206348" rpy="0.616815 0 0"/>
      <geometry>
        <box size="0.025283 0.022642 0.020755"/>
      </geometry>
    </visual>
    <collision>
      <origin xyz="0.001038 -0.205751 -0.206348" rpy="0.616815 0 0"/>
      <geometry>
        <box size="0.025283 0.022642 0.020755"/>
      </geometry>
    </collision>
    <visual>
      <origin xyz="0.001038 -0.168611 -0.18111" rpy="-2.513185 0 0"/>
      <geometry>
        <box size="0.019245 0.071698 0.017358"/>
      </geometry>
    </visual>
    <collision>
      <origin xyz="0.001038 -0.168611 -0.18111" rpy="-2.513185 0 0"/>
      <geometry>
        <box size="0.019245 0.071698 0.017358"/>
      </geometry>
    </collision>
    <visual>
      <origin xyz="0.001038 -0.125111 -0.148236" rpy="0.663625 0 0"/>
      <geometry>
        <box size="0.021887 0.037736 0.018491"/>
      </geometry>
    </visual>
    <collision>
      <origin xyz="0.001038 -0.125111 -0.148236" rpy="0.663625 0 0"/>
      <geometry>
        <box size="0.021887 0.037736 0.018491"/>
      </geometry>
    </collision>
    <visual>
      <origin xyz="0.001038 -0.100861 -0.126163" rpy="0.760415 0 0"/>
      <geometry>
        <box size="0.026415 0.030189 0.021132"/>
      </geometry>
    </visual>
    <collision>
      <origin xyz="0.001038 -0.100861 -0.126163" rpy="0.760415 0 0"/>
      <geometry>
        <box size="0.026415 0.030189 0.021132"/>
      </geometry>
    </collision>
    <visual>
      <origin xyz="0.001038 -0.084241 -0.106843" rpy="0.867225 0 0"/>
      <geometry>
        <box size="0.032453 0.022642 0.024528"/>
      </geometry>
    </visual>
    <collision>
      <origin xyz="0.001038 -0.084241 -0.106843" rpy="0.867225 0 0"/>
      <geometry>
        <box size="0.032453 0.022642 0.024528"/>
      </geometry>
    </collision>
    <visual>
      <origin xyz="0.001038 -0.068551 -0.08661" rpy="0.907225 0 0"/>
      <geometry>
        <box size="0.037736 0.033962 0.026415"/>
      </geometry>
    </visual>
    <collision>
      <origin xyz="0.001038 -0.068551 -0.08661" rpy="0.907225 0 0"/>
      <geometry>
        <box size="0.037736 0.033962 0.026415"/>
      </geometry>
    </collision>
    <visual>
      <origin xyz="0.001038 -0.049721 -0.059227" rpy="0.933245 0 0"/>
      <geometry>
        <cylinder radius="0.024528" length="0.030566"/>
      </geometry>
    </visual>
    <collision>
      <origin xyz="0.001038 -0.049721 -0.059227" rpy="0.933245 0 0"/>
      <geometry>
        <cylinder radius="0.024528" length="0.030566"/>
      </geometry>
    </collision>
    <visual>
      <origin xyz="0.001038 -0.034991 -0.038166" rpy="0.937225 0 0"/>
      <geometry>
        <box size="0.038113 0.022642 0.032075"/>
      </geometry>
    </visual>
    <collision>
      <origin xyz="0.001038 -0.034991 -0.038166" rpy="0.937225 0 0"/>
      <geometry>
        <box size="0.038113 0.022642 0.032075"/>
      </geometry>
    </collision>
    <visual>
      <origin xyz="0.001038 -0.022931 -0.021744" rpy="0.937225 0 0"/>
      <geometry>
        <box size="0.031321 0.018868 0.03283"/>
      </geometry>
    </visual>
    <collision>
      <origin xyz="0.001038 -0.022931 -0.021744" rpy="0.937225 0 0"/>
      <geometry>
        <box size="0.031321 0.018868 0.03283"/>
      </geometry>
    </collision>
    <visual>
      <origin xyz="0.001038 -0.010711 -0.006332" rpy="0.834035 0 0"/>
      <geometry>
        <box size="0.027925 0.018868 0.03283"/>
      </geometry>
    </visual>
    <collision>
      <origin xyz="0.001038 -0.010711 -0.006332" rpy="0.834035 0 0"/>
      <geometry>
        <box size="0.027925 0.018868 0.03283"/>
      </geometry>
    </collision>
    <visual>
      <origin xyz="0.001038 0.004299 0.006862" rpy="0.680845 0 0"/>
      <geometry>
        <box size="0.027547 0.018868 0.034717"/>
      </geometry>
    </visual>
    <collision>
      <origin xyz="0.001038 0.004299 0.006862" rpy="0.680845 0 0"/>
      <geometry>
        <box size="0.027547 0.018868 0.034717"/>
      </geometry>
    </collision>
    <visual>
      <origin xyz="0.001038 0.021259 0.019851" rpy="0.604465 0 0"/>
      <geometry>
        <box size="0.020377 0.026415 0.03434"/>
      </geometry>
    </visual>
    <collision>
      <origin xyz="0.001038 0.021259 0.019851" rpy="0.604465 0 0"/>
      <geometry>
        <box size="0.020377 0.026415 0.03434"/>
      </geometry>
    </collision>
    <visual>
      <origin xyz="0.001038 0.019179 -0.009531" rpy="0.494895 0 0"/>
      <geometry>
        <box size="0.010189 0.05283 0.00717"/>
      </geometry>
    </visual>
    <collision>
      <origin xyz="0.001038 0.019179 -0.009531" rpy="0.494895 0 0"/>
      <geometry>
        <box size="0.010189 0.05283 0.00717"/>
      </geometry>
    </collision>
    <visual>
      <origin xyz="0.001038 0.037459 0.024742" rpy="-1.5708 0 1.5708"/>
      <geometry>
        <cylinder radius="0.021887" length="0.019736"/>
      </geometry>
    </visual>
    <collision>
      <origin xyz="0.001038 0.037459 0.024742" rpy="-1.5708 0 1.5708"/>
      <geometry>
        <cylinder radius="0.021887" length="0.019736"/>
      </geometry>
    </collision>
  </link>
  <link name="front right touch sensor">
  </link>
  <joint name="front right forearm_front right touch sensor_joint" type="fixed">
    <parent link="front right forearm"/>
    <child link="front right touch sensor"/>
    <origin xyz="0.001038 -0.271321 -0.225038" rpy="-1.5708 0 1.570801"/>
  </joint>
  <joint name="front right piston motor" type="continuous">
    <parent link="front right upperarm"/>
    <child link="solid_2"/>
    <axis xyz="1 0 0"/>
    <limit effort="10" velocity="10"/>
    <origin xyz="0.1172 -0.29077 0.2083" rpy="-0.5236 0 0"/>
  </joint>
  <link name="solid_2">
  </link>
  <joint name="front left shoulder abduction motor" type="revolute">
    <parent link="base_link"/>
    <child link="front left shoulder"/>
    <axis xyz="0 0 1"/>
    <limit effort="50" lower="-0.6" upper="0.5" velocity="10"/>
    <origin xyz="0.3635 0.0528 0.012399" rpy="1.5708 -0.00001 -1.570793"/>
  </joint>
  <link name="front left shoulder">
    <visual>
      <origin xyz="0.004874 0.000873 -0.000643" rpy="0 0 0"/>
      <geometry>
        <box size="0.086792 0.124528 0.120755"/>
      </geometry>
    </visual>
    <collision>
      <origin xyz="0.004874 0.000873 -0.000643" rpy="0 0 0"/>
      <geometry>
        <box size="0.086792 0.124528 0.120755"/>
      </geometry>
    </collision>
    <visual>
      <origin xyz="-0.006447 0.000873 -0.000643" rpy="0 0 0"/>
      <geometry>
        <box size="0.098113 0.098113 0.098113"/>
      </geometry>
    </visual>
    <collision>
      <origin xyz="-0.006447 0.000873 -0.000643" rpy="0 0 0"/>
      <geometry>
        <box size="0.098113 0.098113 0.098113"/>
      </geometry>
    </collision>
    <visual>
      <origin xyz="-0.058145 0.000873 -0.000643" rpy="-1.5708 0 1.5708"/>
      <geometry>
        <cylinder radius="0.047925" length="0.006038"/>
      </geometry>
    </visual>
    <collision>
      <origin xyz="-0.058145 0.000873 -0.000643" rpy="-1.5708 0 1.5708"/>
      <geometry>
        <cylinder radius="0.047925" length="0.006038"/>
      </geometry>
    </collision>
  </link>
  <joint name="front left shoulder rotation motor" type="revolute">
    <parent link="front left shoulder"/>
    <child link="front left upperarm"/>
    <axis xyz="1 0 0"/>
    <limit effort="50" lower="-1.7" upper="1.7" velocity="10"/>
    <origin xyz="0 -0.00053 0" rpy="0 0 0"/>
  </joint>
  <link name="front left upperarm">
    <visual>
      <origin xyz="-0.117011 -0.32073 0.1829" rpy="-1.5708 0 1.5708"/>
      <geometry>
        <cylinder radius="0.02717" length="0.060377"/>
      </geometry>
    </visual>
    <collision>
      <origin xyz="-0.117011 -0.32073 0.1829" rpy="-1.5708 0 1.5708"/>
      <geometry>
        <cylinder radius="0.02717" length="0.060377"/>
      </geometry>
    </collision>
    <visual>
      <origin xyz="-0.117011 -0.25867 0.180358" rpy="0 0.05 1.570795"/>
      <geometry>
        <box size="0.09434 0.060377 0.053208"/>
      </geometry>
    </visual>
    <collision>
      <origin xyz="-0.117011 -0.25867 0.180358" rpy="0 0.05 1.570795"/>
      <geometry>
        <box size="0.09434 0.060377 0.053208"/>
      </geometry>
    </collision>
    <visual>
      <origin xyz="-0.149087 -0.023654 0.007772" rpy="-0.656375 0 0"/>
      <geometry>
        <box size="0.016226 0.177358 0.071698"/>
      </geometry>
    </visual>
    <collision>
      <origin xyz="-0.149087 -0.023654 0.007772" rpy="-0.656375 0 0"/>
      <geometry>
        <box size="0.016226 0.177358 0.071698"/>
      </geometry>
    </collision>
    <visual>
      <origin xyz="-0.14944 -0.001095 0.048195" rpy="-0.688653 0.282831 -0.225783"/>
      <geometry>
        <box size="0.004528 0.173585 0.015094"/>
      </geometry>
    </visual>
    <collision>
      <origin xyz="-0.14944 -0.001095 0.048195" rpy="-0.688653 0.282831 -0.225783"/>
      <geometry>
        <box size="0.004528 0.173585 0.015094"/>
      </geometry>
    </collision>
    <visual>
      <origin xyz="-0.143963 -0.142325 0.149419" rpy="-0.689784 0.390399 -0.237371"/>
      <geometry>
        <box size="0.004528 0.173585 0.015094"/>
      </geometry>
    </visual>
    <collision>
      <origin xyz="-0.143963 -0.142325 0.149419" rpy="-0.689784 0.390399 -0.237371"/>
      <geometry>
        <box size="0.004528 0.173585 0.015094"/>
      </geometry>
    </collision>
    <visual>
      <origin xyz="-0.143376 -0.16295 0.113632" rpy="-0.64577 0.030504 0.039623"/>
      <geometry>
        <box size="0.016226 0.173585 0.071698"/>
      </geometry>
    </visual>
    <collision>
      <origin xyz="-0.143376 -0.16295 0.113632" rpy="-0.64577 0.030504 0.039623"/>
      <geometry>
        <box size="0.016226 0.173585 0.071698"/>
      </geometry>
    </collision>
    <visual>
      <origin xyz="-0.113992 -0.21476 0.154045" rpy="-0.656375 0 0"/>
      <geometry>
        <box size="0.054717 0.098113 0.064151"/>
      </geometry>
    </visual>
    <collision>
      <origin xyz="-0.113992 -0.21476 0.154045" rpy="-0.656375 0 0"/>
      <geometry>
        <box size="0.054717 0.098113 0.064151"/>
      </geometry>
    </collision>
    <visual>
      <origin xyz="-0.113238 -0.119427 0.086296" rpy="-2.227175 0 0"/>
      <geometry>
        <cylinder radius="0.028679" length="0.150943"/>
      </geometry>
    </visual>
    <collision>
      <origin xyz="-0.113238 -0.119427 0.086296" rpy="-2.227175 0 0"/>
      <geometry>
        <cylinder radius="0.028679" length="0.150943"/>
      </geometry>
    </collision>
    <visual>
      <origin xyz="-0.113238 -0.04459 0.028636" rpy="-2.227175 0 0"/>
      <geometry>
        <cylinder radius="0.037736" length="0.041509"/>
      </geometry>
    </visual>
    <collision>
      <origin xyz="-0.113238 -0.04459 0.028636" rpy="-2.227175 0 0"/>
      <geometry>
        <cylinder radius="0.037736" length="0.041509"/>
      </geometry>
    </collision>
    <visual>
      <origin xyz="-0.113738 -0.02284 -0.046726" rpy="-0.656375 0 0"/>
      <geometry>
        <box size="0.061509 0.069811 0.011321"/>
      </geometry>
    </visual>
    <collision>
      <origin xyz="-0.113738 -0.02284 -0.046726" rpy="-0.656375 0 0"/>
      <geometry>
        <box size="0.061509 0.069811 0.011321"/>
      </geometry>
    </collision>
    <visual>
      <origin xyz="-0.073615 -0.00019 -0.000689" rpy="-1.5708 0 1.5708"/>
      <geometry>
        <cylinder radius="0.04" length="0.037736"/>
      </geometry>
    </visual>
    <collision>
      <origin xyz="-0.073615 -0.00019 -0.000689" rpy="-1.5708 0 1.5708"/>
      <geometry>
        <cylinder radius="0.04" length="0.037736"/>
      </geometry>
    </collision>
    <visual>
      <origin xyz="-0.115879 0.008331 -0.011344" rpy="-2.227175 0 0"/>
      <geometry>
        <cylinder radius="0.033962" length="0.086792"/>
      </geometry>
    </visual>
    <collision>
      <origin xyz="-0.115879 0.008331 -0.011344" rpy="-2.227175 0 0"/>
      <geometry>
        <cylinder radius="0.033962" length="0.086792"/>
      </geometry>
    </collision>
    <visual>
      <origin xyz="-0.12154 0.053961 -0.047932" rpy="-0.656375 0 0"/>
      <geometry>
        <box size="0.064151 0.003774 0.071698"/>
      </geometry>
    </visual>
    <collision>
      <origin xyz="-0.12154 0.053961 -0.047932" rpy="-0.656375 0 0"/>
      <geometry>
        <box size="0.064151 0.003774 0.071698"/>
      </geometry>
    </collision>
    <visual>
      <origin xyz="-0.12003 0.073308 -0.006499" rpy="0.013625 0 0"/>
      <geometry>
        <box size="0.060377 0.007547 0.022642"/>
      </geometry>
    </visual>
    <collision>
      <origin xyz="-0.12003 0.073308 -0.006499" rpy="0.013625 0 0"/>
      <geometry>
        <box size="0.060377 0.007547 0.022642"/>
      </geometry>
    </collision>
    <visual>
      <origin xyz="-0.117011 -0.13635 0.154336" rpy="0.99 0 0"/>
      <geometry>
        <box size="0.049057 0.005283 0.169811"/>
      </geometry>
    </visual>
    <collision>
      <origin xyz="-0.117011 -0.13635 0.154336" rpy="0.99 0 0"/>
      <geometry>
        <box size="0.049057 0.005283 0.169811"/>
      </geometry>
    </collision>
    <visual>
      <origin xyz="-0.083111 -0.31378 0.182934" rpy="0 -0.076371 1.570798"/>
      <geometry>
        <box size="0.044 0.008 0.0387"/>
      </geometry>
    </visual>
    <collision>
      <origin xyz="-0.083111 -0.31378 0.182934" rpy="0 -0.076371 1.570798"/>
      <geometry>
        <box size="0.044 0.008 0.0387"/>
      </geometry>
    </collision>
  </link>
  <joint name="front left elbow motor" type="revolute">
    <parent link="front left upperarm"/>
    <child link="front left forearm"/>
    <axis xyz="1 0 0"/>
    <limit effort="50" lower="-0.45" upper="1.6" velocity="10"/>
    <origin xyz="-0.1122 -0.319729 0.182338" rpy="0 0 0"/>
  </joint>
  <link name="front left forearm">
    <visual>
      <origin xyz="-0.001038 -0.271321 -0.225038" rpy="-1.5708 0 1.570801"/>
      <geometry>
        <cylinder radius="0.035094" length="0.039623"/>
      </geometry>
    </visual>
    <collision>
      <origin xyz="-0.001038 -0.271321 -0.225038" rpy="-1.5708 0 1.570801"/>
      <geometry>
        <cylinder radius="0.035094" length="0.039623"/>
      </geometry>
    </collision>
    <visual>
      <origin xyz="-0.001038 -0.227421 -0.230239" rpy="-0.947675 0 0"/>
      <geometry>
        <box size="0.037736 0.006038 0.041509"/>
      </geometry>
    </visual>
    <collision>
      <origin xyz="-0.001038 -0.227421 -0.230239" rpy="-0.947675 0 0"/>
      <geometry>
        <box size="0.037736 0.006038 0.041509"/>
      </geometry>
    </collision>
    <visual>
      <origin xyz="-0.001038 -0.232272 -0.198255" rpy="-0.093185 0 0"/>
      <geometry>
        <box size="0.037736 0.045283 0.006792"/>
      </geometry>
    </visual>
    <collision>
      <origin xyz="-0.001038 -0.232272 -0.198255" rpy="-0.093185 0 0"/>
      <geometry>
        <box size="0.037736 0.045283 0.006792"/>
      </geometry>
    </collision>
    <visual>
      <origin xyz="-0.001038 -0.205751 -0.206348" rpy="0.616815 0 0"/>
      <geometry>
        <box size="0.025283 0.022642 0.020755"/>
      </geometry>
    </visual>
    <collision>
      <origin xyz="-0.001038 -0.205751 -0.206348" rpy="0.616815 0 0"/>
      <geometry>
        <box size="0.025283 0.022642 0.020755"/>
      </geometry>
    </collision>
    <visual>
      <origin xyz="-0.001038 -0.168611 -0.18111" rpy="-2.513185 0 0"/>
      <geometry>
        <box size="0.019245 0.071698 0.017358"/>
      </geometry>
    </visual>
    <collision>
      <origin xyz="-0.001038 -0.168611 -0.18111" rpy="-2.513185 0 0"/>
      <geometry>
        <box size="0.019245 0.071698 0.017358"/>
      </geometry>
    </collision>
    <visual>
      <origin xyz="-0.001038 -0.125111 -0.148236" rpy="0.663625 0 0"/>
      <geometry>
        <box size="0.021887 0.037736 0.018491"/>
      </geometry>
    </visual>
    <collision>
      <origin xyz="-0.001038 -0.125111 -0.148236" rpy="0.663625 0 0"/>
      <geometry>
        <box size="0.021887 0.037736 0.018491"/>
      </geometry>
    </collision>
    <visual>
      <origin xyz="-0.001038 -0.100861 -0.126163" rpy="0.760415 0 0"/>
      <geometry>
        <box size="0.026415 0.030189 0.021132"/>
      </geometry>
    </visual>
    <collision>
      <origin xyz="-0.001038 -0.100861 -0.126163" rpy="0.760415 0 0"/>
      <geometry>
        <box size="0.026415 0.030189 0.021132"/>
      </geometry>
    </collision>
    <visual>
      <origin xyz="-0.001038 -0.084241 -0.106843" rpy="0.867225 0 0"/>
      <geometry>
        <box size="0.032453 0.022642 0.024528"/>
      </geometry>
    </visual>
    <collision>
      <origin xyz="-0.001038 -0.084241 -0.106843" rpy="0.867225 0 0"/>
      <geometry>
        <box size="0.032453 0.022642 0.024528"/>
      </geometry>
    </collision>
    <visual>
      <origin xyz="-0.001038 -0.068551 -0.08661" rpy="0.907225 0 0"/>
      <geometry>
        <box size="0.037736 0.033962 0.026415"/>
      </geometry>
    </visual>
    <collision>
      <origin xyz="-0.001038 -0.068551 -0.08661" rpy="0.907225 0 0"/>
      <geometry>
        <box size="0.037736 0.033962 0.026415"/>
      </geometry>
    </collision>
    <visual>
      <origin xyz="-0.001038 -0.049721 -0.059227" rpy="0.933245 0 0"/>
      <geometry>
        <cylinder radius="0.024528" length="0.030566"/>
      </geometry>
    </visual>
    <collision>
      <origin xyz="-0.001038 -0.049721 -0.059227" rpy="0.933245 0 0"/>
      <geometry>
        <cylinder radius="0.024528" length="0.030566"/>
      </geometry>
    </collision>
    <visual>
      <origin xyz="-0.001038 -0.034991 -0.038166" rpy="0.937225 0 0"/>
      <geometry>
        <box size="0.038113 0.022642 0.032075"/>
      </geometry>
    </visual>
    <collision>
      <origin xyz="-0.001038 -0.034991 -0.038166" rpy="0.937225 0 0"/>
      <geometry>
        <box size="0.038113 0.022642 0.032075"/>
      </geometry>
    </collision>
    <visual>
      <origin xyz="-0.001038 -0.022931 -0.021744" rpy="0.937225 0 0"/>
      <geometry>
        <box size="0.031321 0.018868 0.03283"/>
      </geometry>
    </visual>
    <collision>
      <origin xyz="-0.001038 -0.022931 -0.021744" rpy="0.937225 0 0"/>
      <geometry>
        <box size="0.031321 0.018868 0.03283"/>
      </geometry>
    </collision>
    <visual>
      <origin xyz="-0.001038 -0.010711 -0.006332" rpy="0.834035 0 0"/>
      <geometry>
        <box size="0.027925 0.018868 0.03283"/>
      </geometry>
    </visual>
    <collision>
      <origin xyz="-0.001038 -0.010711 -0.006332" rpy="0.834035 0 0"/>
      <geometry>
        <box size="0.027925 0.018868 0.03283"/>
      </geometry>
    </collision>
    <visual>
      <origin xyz="-0.001038 0.004299 0.006862" rpy="0.680845 0 0"/>
      <geometry>
        <box size="0.027547 0.018868 0.034717"/>
      </geometry>
    </visual>
    <collision>
      <origin xyz="-0.001038 0.004299 0.006862" rpy="0.680845 0 0"/>
      <geometry>
        <box size="0.027547 0.018868 0.034717"/>
      </geometry>
    </collision>
    <visual>
      <origin xyz="-0.001038 0.021259 0.019851" rpy="0.604465 0 0"/>
      <geometry>
        <box size="0.020377 0.026415 0.03434"/>
      </geometry>
    </visual>
    <collision>
      <origin xyz="-0.001038 0.021259 0.019851" rpy="0.604465 0 0"/>
      <geometry>
        <box size="0.020377 0.026415 0.03434"/>
      </geometry>
    </collision>
    <visual>
      <origin xyz="-0.001038 0.019179 -0.009531" rpy="0.494895 0 0"/>
      <geometry>
        <box size="0.010189 0.05283 0.00717"/>
      </geometry>
    </visual>
    <collision>
      <origin xyz="-0.001038 0.019179 -0.009531" rpy="0.494895 0 0"/>
      <geometry>
        <box size="0.010189 0.05283 0.00717"/>
      </geometry>
    </collision>
    <visual>
      <origin xyz="-0.001038 0.037459 0.024742" rpy="-1.5708 0 1.5708"/>
      <geometry>
        <cylinder radius="0.021887" length="0.019736"/>
      </geometry>
    </visual>
    <collision>
      <origin xyz="-0.001038 0.037459 0.024742" rpy="-1.5708 0 1.5708"/>
      <geometry>
        <cylinder radius="0.021887" length="0.019736"/>
      </geometry>
    </collision>
  </link>
  <link name="front left touch sensor">
  </link>
  <joint name="front left forearm_front left touch sensor_joint" type="fixed">
    <parent link="front left forearm"/>
    <child link="front left touch sensor"/>
    <origin xyz="0.001038 -0.271321 -0.225038" rpy="-1.5708 0 1.570801"/>
  </joint>
  <joint name="front left piston motor" type="continuous">
    <parent link="front left upperarm"/>
    <child link="solid_3"/>
    <axis xyz="1 0 0"/>
    <limit effort="10" velocity="10"/>
    <origin xyz="-0.1172 -0.29077 0.2083" rpy="-0.5236 0 0"/>
  </joint>
  <link name="solid_3">
  </link>
  <link name="rear depth">
  </link>
  <joint name="base_link_rear depth_joint" type="fixed">
    <parent link="base_link"/>
    <child link="rear depth"/>
    <origin xyz="-0.448136 -0.018115 0.012558" rpy="0.000015 0.474984 -3.141579"/>
  </joint>
  <link name="rear camera">
  </link>
  <joint name="base_link_rear camera_joint" type="fixed">
    <parent link="base_link"/>
    <child link="rear camera"/>
    <origin xyz="-0.448136 -0.018115 0.012558" rpy="-1.570781 0.474984 -4.712375"/>
  </joint>
  <link name="left flank depth">
  </link>
  <joint name="base_link_left flank depth_joint" type="fixed">
    <parent link="base_link"/>
    <child link="left flank depth"/>
    <origin xyz="-0.13568 0.110127 0.065528" rpy="-0.000003 0.403191 1.570802"/>
  </joint>
  <link name="left flank camera">
  </link>
  <joint name="base_link_left flank camera_joint" type="fixed">
    <parent link="base_link"/>
    <child link="left flank camera"/>
    <origin xyz="-0.13568 0.110127 0.065528" rpy="-1.570799 0.403191 0.000005"/>
  </joint>
  <link name="right flank depth">
  </link>
  <joint name="base_link_right flank depth_joint" type="fixed">
    <parent link="base_link"/>
    <child link="right flank depth"/>
    <origin xyz="-0.135678 -0.110163 0.06561" rpy="0.000005 0.413171 -1.570794"/>
  </joint>
  <link name="right flank camera">
  </link>
  <joint name="base_link_right flank camera_joint" type="fixed">
    <parent link="base_link"/>
    <child link="right flank camera"/>
    <origin xyz="-0.135678 -0.110163 0.06561" rpy="-1.570791 0.413171 -3.141591"/>
  </joint>
  <link name="left head depth">
  </link>
  <joint name="base_link_left head depth_joint" type="fixed">
    <parent link="base_link"/>
    <child link="left head depth"/>
    <origin xyz="0.46325 0.045111 0.029551" rpy="-0.158862 0.433786 -0.408004"/>
  </joint>
  <link name="left head camera">
  </link>
  <joint name="base_link_left head camera_joint" type="fixed">
    <parent link="base_link"/>
    <child link="left head camera"/>
    <origin xyz="0.46325 0.045111 0.029551" rpy="-1.729658 0.433786 -1.9788"/>
  </joint>
  <link name="right head depth">
  </link>
  <joint name="base_link_right head depth_joint" type="fixed">
    <parent link="base_link"/>
    <child link="right head depth"/>
    <origin xyz="0.462603 -0.044896 0.027972" rpy="0.193959 0.3931 0.409605"/>
  </joint>
  <link name="right head camera">
  </link>
  <joint name="base_link_right head camera_joint" type="fixed">
    <parent link="base_link"/>
    <child link="right head camera"/>
    <origin xyz="0.462603 -0.044896 0.027972" rpy="-1.376837 0.3931 -1.161192"/>
  </joint>
  <link name="left bottom led">
  </link>
  <joint name="base_link_left bottom led_joint" type="fixed">
    <parent link="base_link"/>
    <child link="left bottom led"/>
    <origin xyz="0.481728 0.081967 0.001191" rpy="1.873112 0.329178 0.767486"/>
  </joint>
  <link name="right bottom led">
  </link>
  <joint name="base_link_right bottom led_joint" type="fixed">
    <parent link="base_link"/>
    <child link="right bottom led"/>
    <origin xyz="0.481728 -0.081963 0.001193" rpy="1.279539 0.338923 -0.733718"/>
  </joint>
  <link name="right middle down led">
  </link>
  <joint name="base_link_right middle down led_joint" type="fixed">
    <parent link="base_link"/>
    <child link="right middle down led"/>
    <origin xyz="0.489879 -0.081963 0.018293" rpy="1.279539 0.338923 -0.733718"/>
  </joint>
  <link name="right middle up led">
  </link>
  <joint name="base_link_right middle up led_joint" type="fixed">
    <parent link="base_link"/>
    <child link="right middle up led"/>
    <origin xyz="0.497601 -0.081963 0.034493" rpy="1.279539 0.338923 -0.733718"/>
  </joint>
  <link name="right top led">
  </link>
  <joint name="base_link_right top led_joint" type="fixed">
    <parent link="base_link"/>
    <child link="right top led"/>
    <origin xyz="0.505323 -0.081963 0.050723" rpy="1.279539 0.338923 -0.733718"/>
  </joint>
  <link name="left middle down led">
  </link>
  <joint name="base_link_left middle down led_joint" type="fixed">
    <parent link="base_link"/>
    <child link="left middle down led"/>
    <origin xyz="0.489879 0.081966 0.018291" rpy="1.873112 0.329178 0.767486"/>
  </joint>
  <link name="left middle up led">
  </link>
  <joint name="base_link_left middle up led_joint" type="fixed">
    <parent link="base_link"/>
    <child link="left middle up led"/>
    <origin xyz="0.497601 0.081967 0.034491" rpy="1.873112 0.329178 0.767486"/>
  </joint>
  <link name="left top led">
  </link>
  <joint name="base_link_left top led_joint" type="fixed">
    <parent link="base_link"/>
    <child link="left top led"/>
    <origin xyz="0.505323 0.081967 0.050721" rpy="1.873112 0.329178 0.767486"/>
  </joint>
  <link name="inertial unit">
  </link>
  <joint name="base_link_inertial unit_joint" type="fixed">
    <parent link="base_link"/>
    <child link="inertial unit"/>
    <origin xyz="0 0 0" rpy="0 0 0"/>
  </joint>
  <link name="gyro">
  </link>
  <joint name="base_link_gyro_joint" type="fixed">
    <parent link="base_link"/>
    <child link="gyro"/>
    <origin xyz="0 0 0" rpy="0 0 0"/>
  </joint>
  <link name="gps">
  </link>
  <joint name="base_link_gps_joint" type="fixed">
    <parent link="base_link"/>
    <child link="gps"/>
    <origin xyz="0 0 0" rpy="0 0 0"/>
  </joint>
  <link name="accelerometer">
  </link>
  <joint name="base_link_accelerometer_joint" type="fixed">
    <parent link="base_link"/>
    <child link="accelerometer"/>
    <origin xyz="0 0 0" rpy="0 0 0"/>
  </joint>
</robot>
